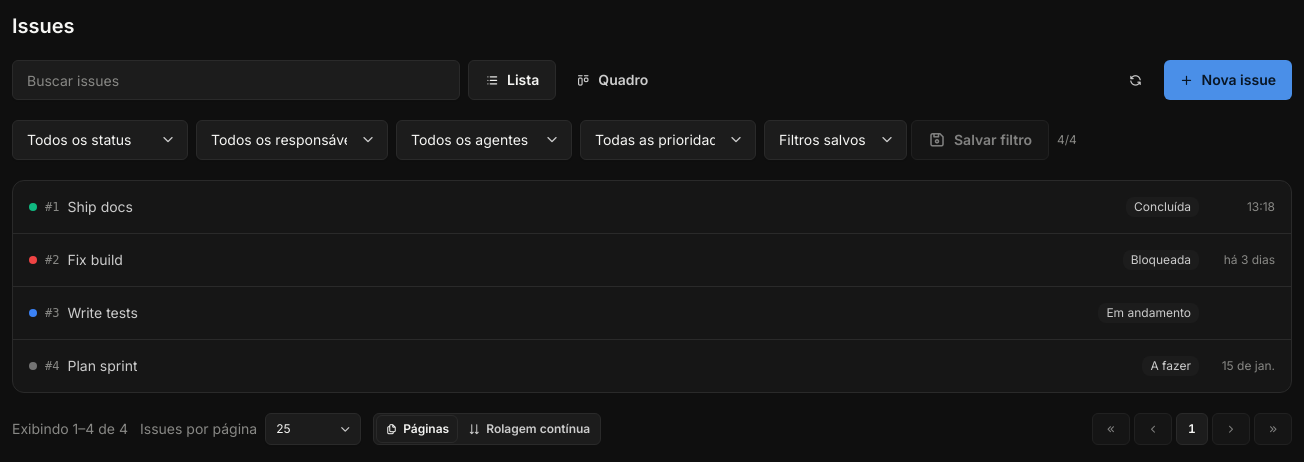
Test: WorkView issue list and board › colors rows by status, formats dates, searches and filters by status
The image size is (1304, 462).
Expected: the button "#1 Ship docs" is shown, [29,193,1114,221]
Expected: the text "há 3 dias" is shown, [1224,252,1275,267]
Type "BUILD" into the search field labelled "Buscar issues".
click(236, 80); type("BUILD")  # box [12,60,460,100]
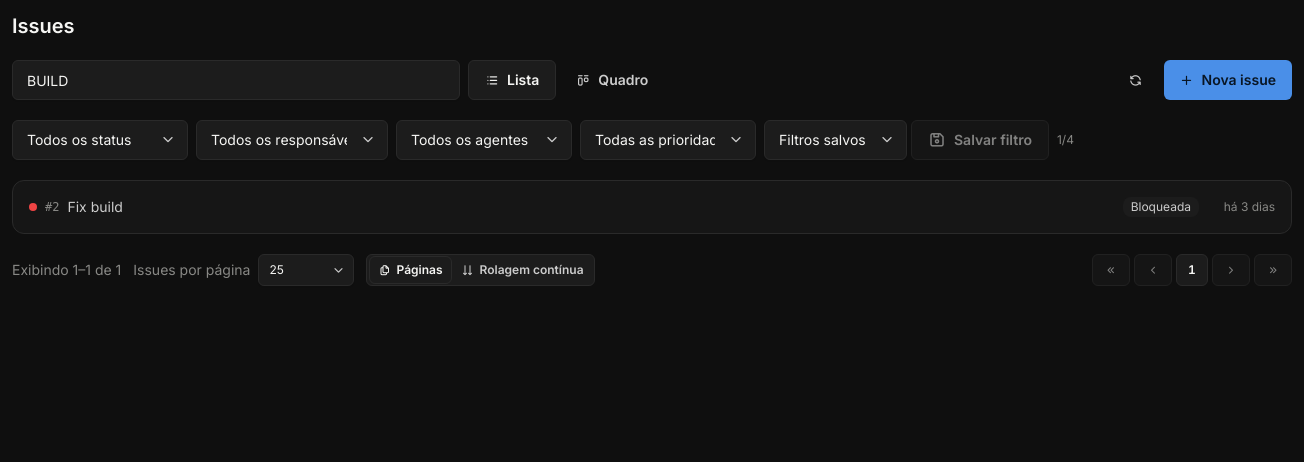
Expected: the button "#2 Fix build" is shown, [29,193,1111,221]
Expected: the button "1 Ship docs" is gone
Clear the search field named "Buscar issues" at (236, 80), box [12,60,460,100]
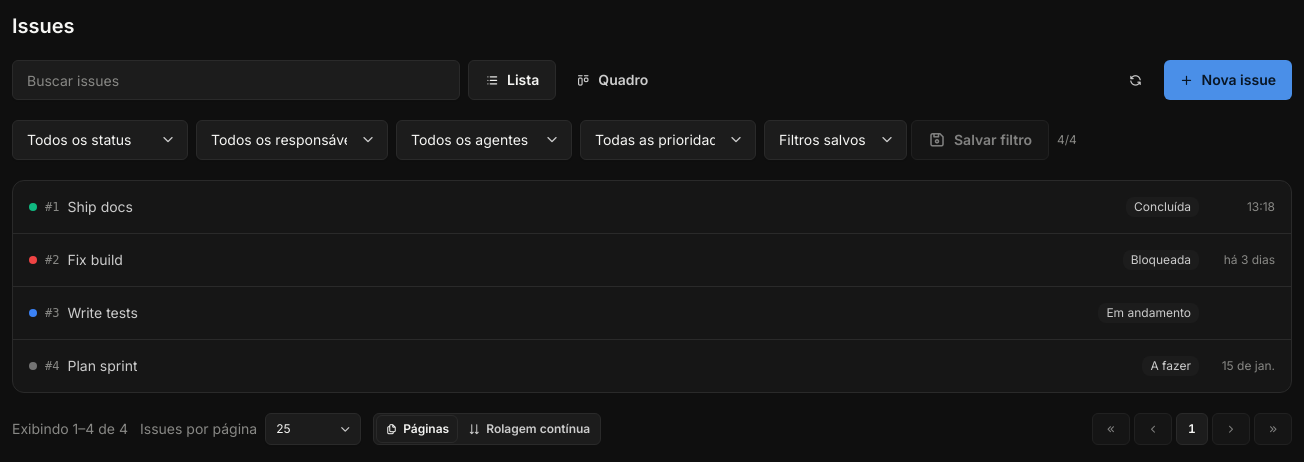
Select "Concluída" in the dropdown named "Filtrar status" at (100, 140), box [12,120,188,160]
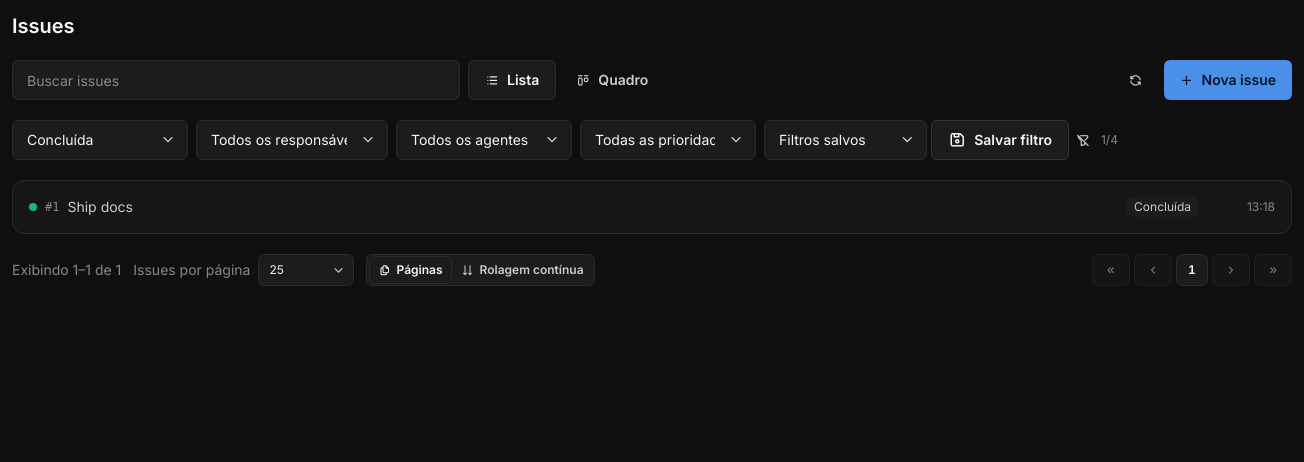
Expected: the button "#1 Ship docs" is shown, [29,193,1114,221]
Expected: the button "2 Fix build" is gone
